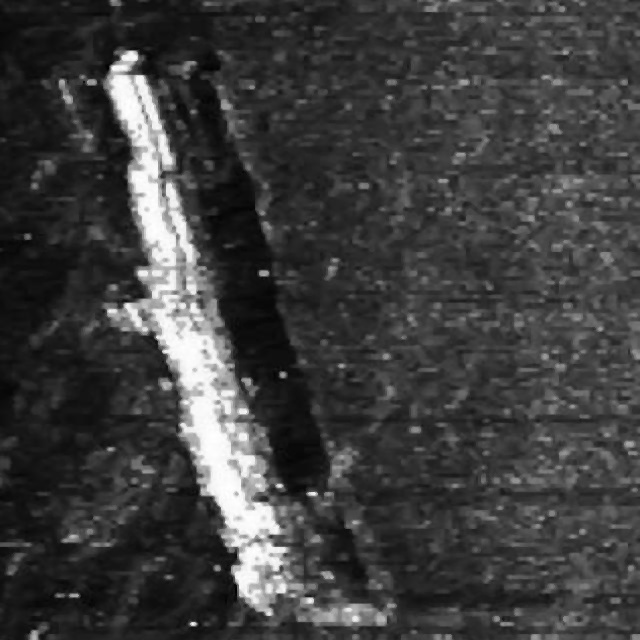Ship: (50, 24, 439, 640)
